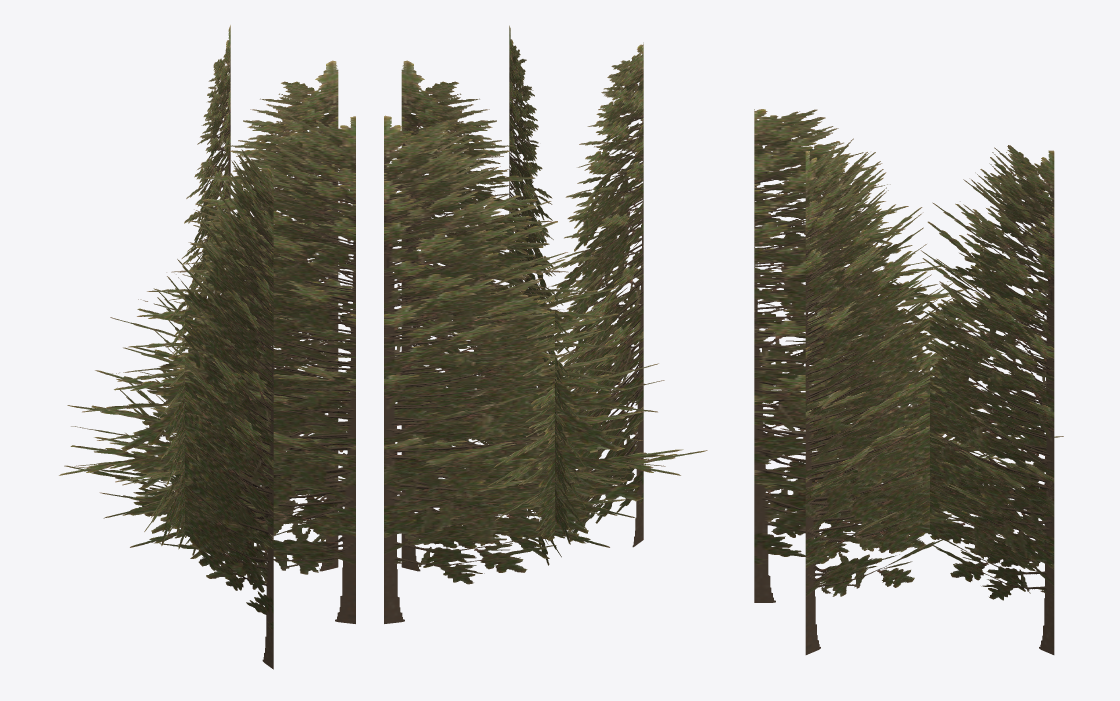
Rendered from fir_small_b_lod6_cross.gltf.
3 views of the same model, side by side, from view 1: azimuth 30°, elevation 25°; view 2: azimuth 150°, elevation 25°; view 3: azimuth 270°, elevation 25° (orthographic).
Parts seen in each view (by area): view 1: fir_small_b_LOD6; view 2: fir_small_b_LOD6; view 3: fir_small_b_LOD6.
Boxes of the visible parts, x1,y1,x2,y2 form: fir_small_b_LOD6: [59, 25, 355, 669]; fir_small_b_LOD6: [384, 25, 707, 623]; fir_small_b_LOD6: [754, 109, 1063, 654].
Bounding box in the file's own units: 9.09 × 14.98 × 9.09.
1 material, 1 textured.
